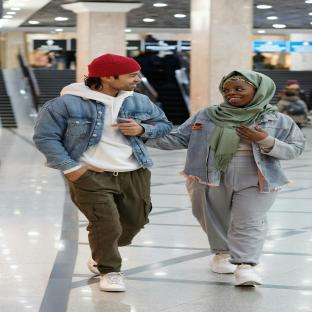Human: (145, 70, 306, 285), (33, 54, 172, 292)
